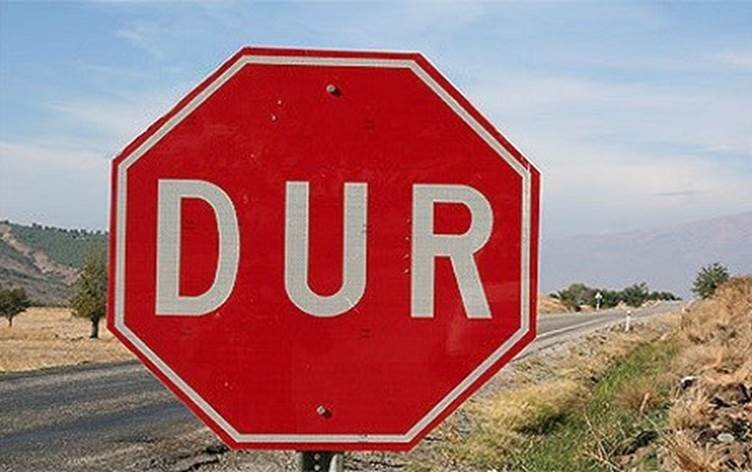dur: (98, 36, 534, 458)
